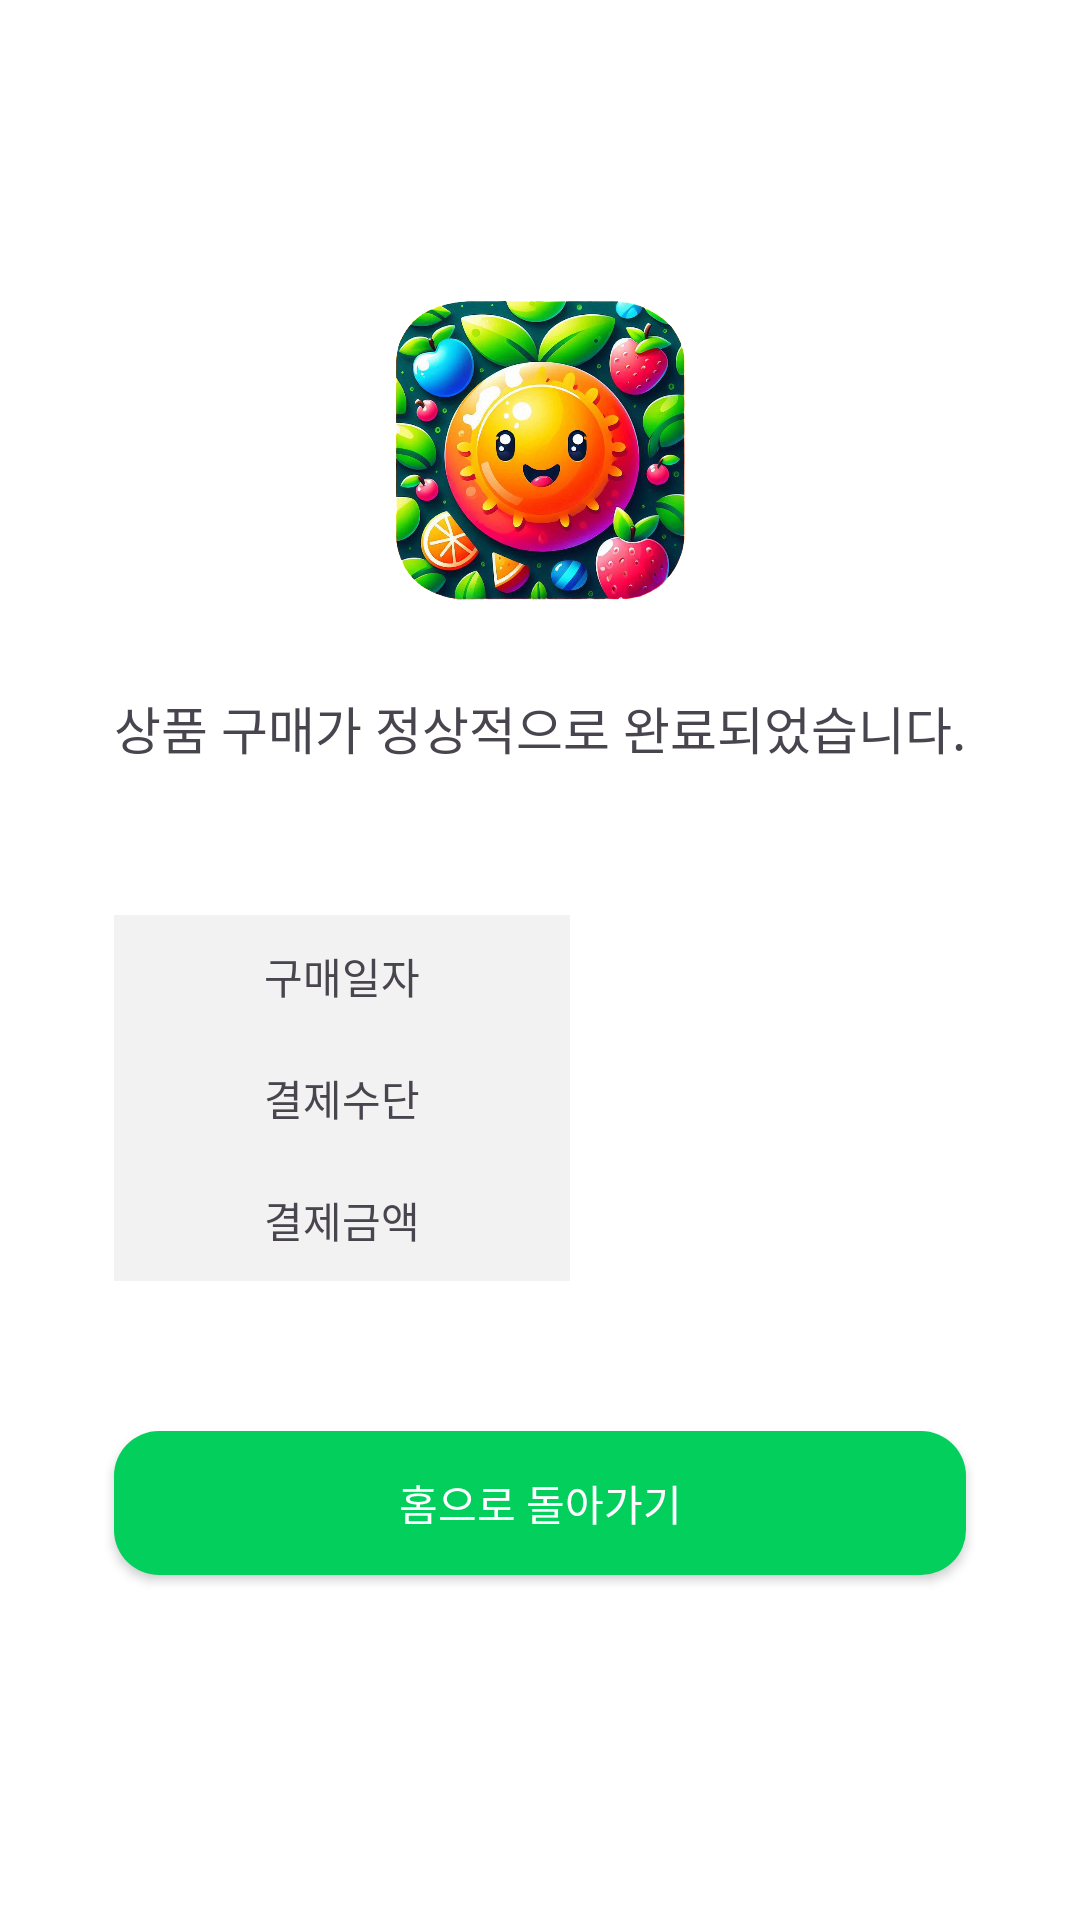

Named icons in this screenshot (1080 x 1920) and their bounding boxes, bbox(x1, y1, x2, y2):
fruit: bbox(395, 301, 685, 600)
